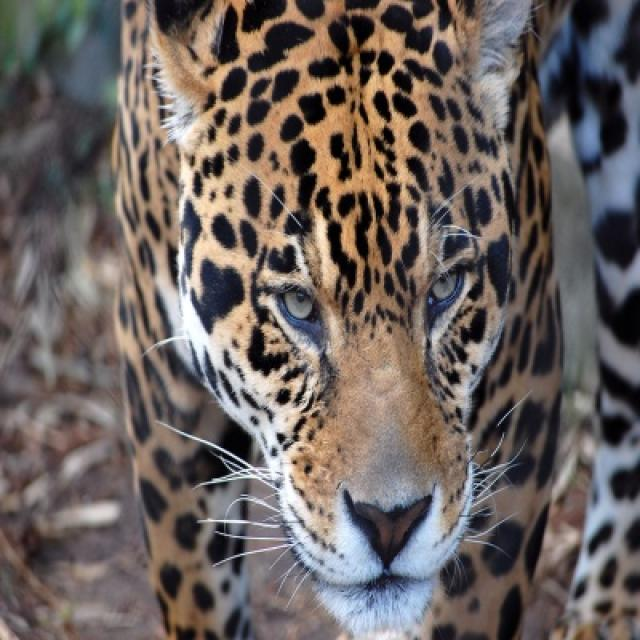Jaguar: (112, 1, 638, 638)
